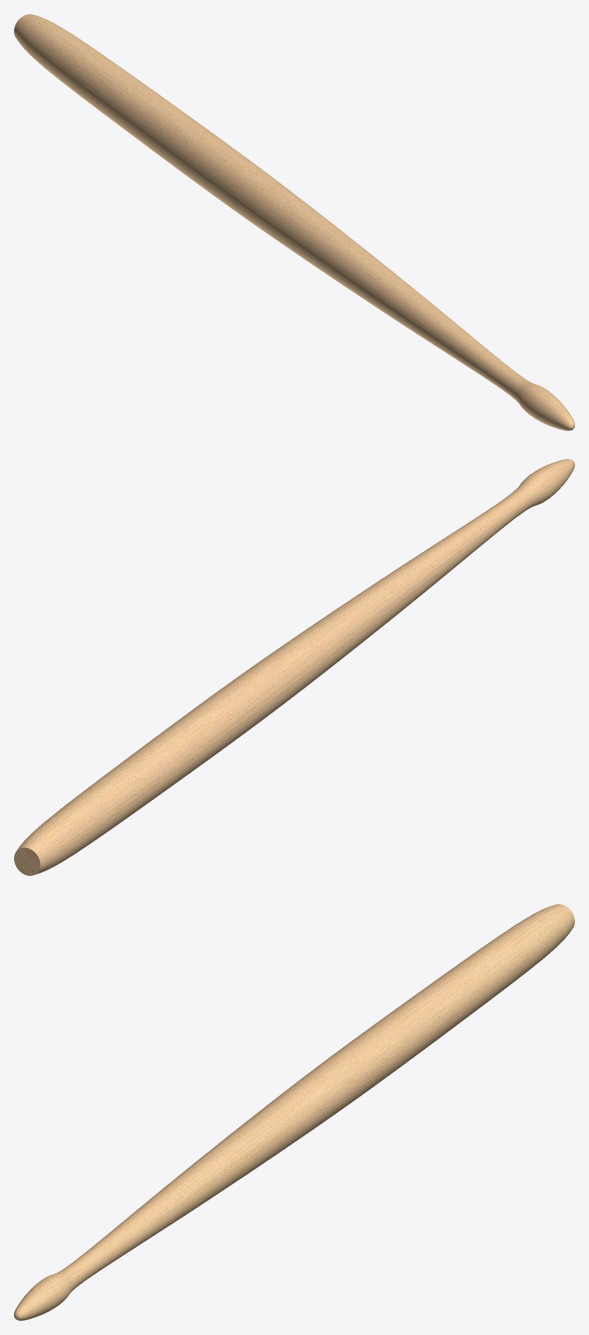
File: 10378_Drumstick_v01_L3.obj
3 views of the same model, one above another, from view 1: azimuth 30°, elevation 25°; view 2: azimuth 150°, elevation 25°; view 3: azimuth 330°, elevation 25° (orthographic).
Parts seen in each view (by area): view 1: 10378_DrumSticks_v01; view 2: 10378_DrumSticks_v01; view 3: 10378_DrumSticks_v01.
Part boxes in pixels (bbox=[...]): 10378_DrumSticks_v01: bbox=[14, 14, 574, 430]; 10378_DrumSticks_v01: bbox=[14, 459, 574, 875]; 10378_DrumSticks_v01: bbox=[14, 904, 574, 1320].
Size of the model in its own units: 19.66 by 19.66 by 430.
1 material, 1 textured.
